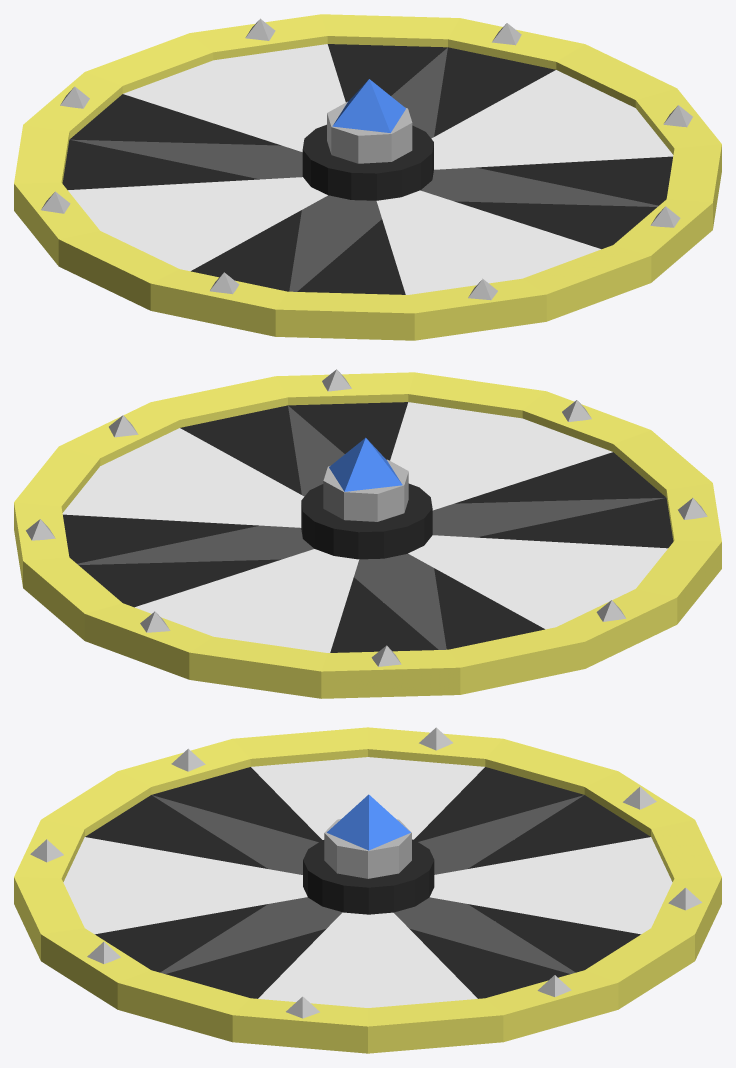
Rendered from Shield_1_e_w.fbx.
The picture shows the model from 3 angles, top to bottom: view 1: azimuth 30°, elevation 25°; view 2: azimuth 150°, elevation 25°; view 3: azimuth 270°, elevation 25°; orthographic projection.
Parts seen in each view (by area): view 1: Circle.294, Circle.293, Circle.296, Circle.295, Circle.291, Circle.292, Cone.336; view 2: Circle.294, Circle.293, Circle.296, Circle.295, Circle.291, Circle.292, Cone.336; view 3: Circle.294, Circle.293, Circle.296, Circle.295, Circle.291, Circle.292, Cone.336.
Boxes of the visible parts, x1=… form: Circle.294: x1=14, y1=14, x2=721, y2=340; Circle.293: x1=68, y1=44, x2=673, y2=294; Circle.296: x1=62, y1=44, x2=672, y2=294; Circle.295: x1=70, y1=47, x2=658, y2=291; Circle.291: x1=302, y1=124, x2=433, y2=200; Circle.292: x1=327, y1=101, x2=412, y2=163; Cone.336: x1=332, y1=79, x2=405, y2=132; Circle.294: x1=14, y1=372, x2=721, y2=698; Circle.293: x1=62, y1=402, x2=667, y2=652; Circle.296: x1=63, y1=402, x2=673, y2=652; Circle.295: x1=77, y1=405, x2=665, y2=649; Circle.291: x1=301, y1=483, x2=432, y2=559; Circle.292: x1=323, y1=459, x2=408, y2=521; Cone.336: x1=329, y1=437, x2=402, y2=491; Circle.294: x1=14, y1=727, x2=721, y2=1053; Circle.293: x1=63, y1=757, x2=672, y2=1007; Circle.296: x1=85, y1=767, x2=650, y2=998; Circle.295: x1=152, y1=795, x2=583, y2=973; Circle.291: x1=303, y1=839, x2=434, y2=914; Circle.292: x1=324, y1=819, x2=411, y2=878; Cone.336: x1=327, y1=794, x2=410, y2=850.
Size of the model in its own units: 80.85 by 24.85 by 80.85.
